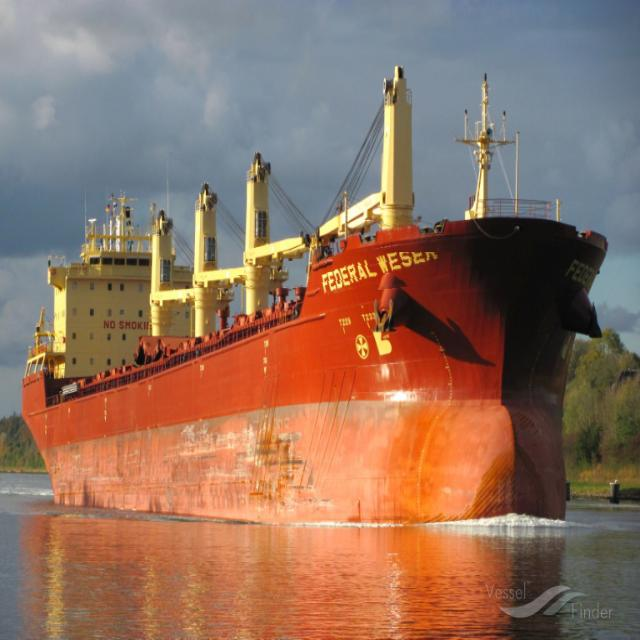OCR: (315, 252, 453, 298)
